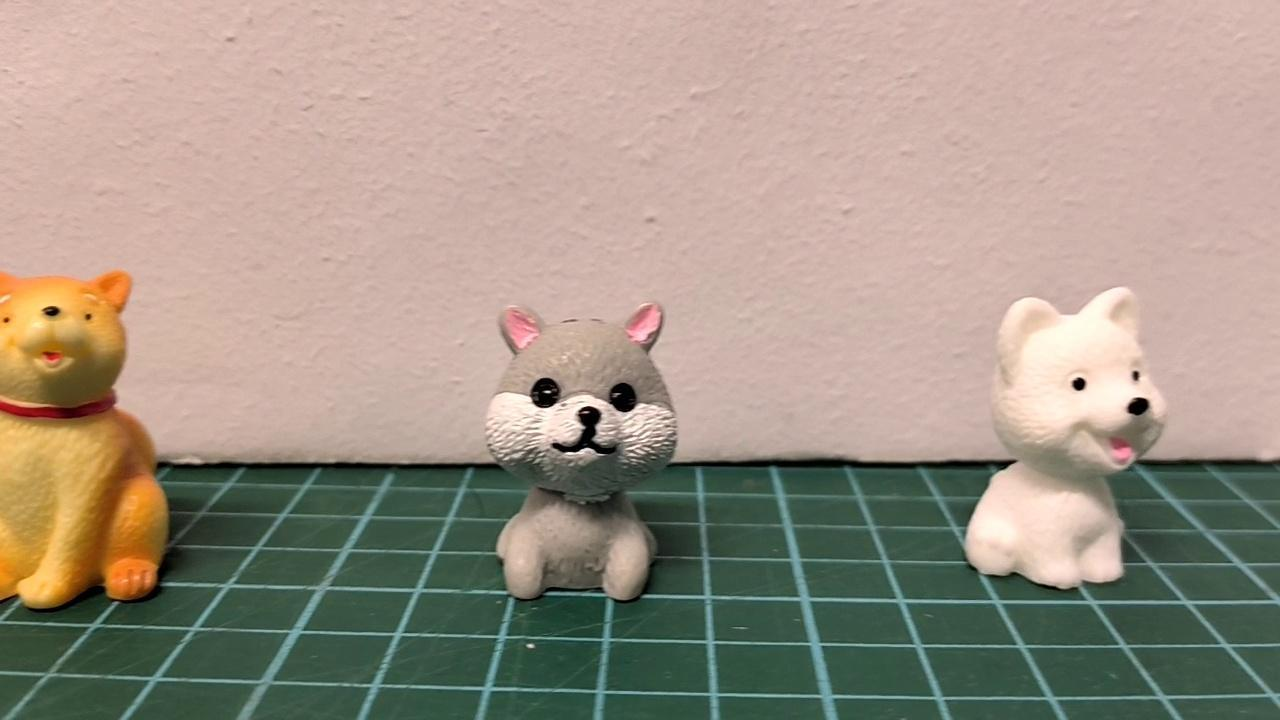pet: (476, 297, 684, 606), (961, 284, 1170, 591), (0, 265, 175, 615)
